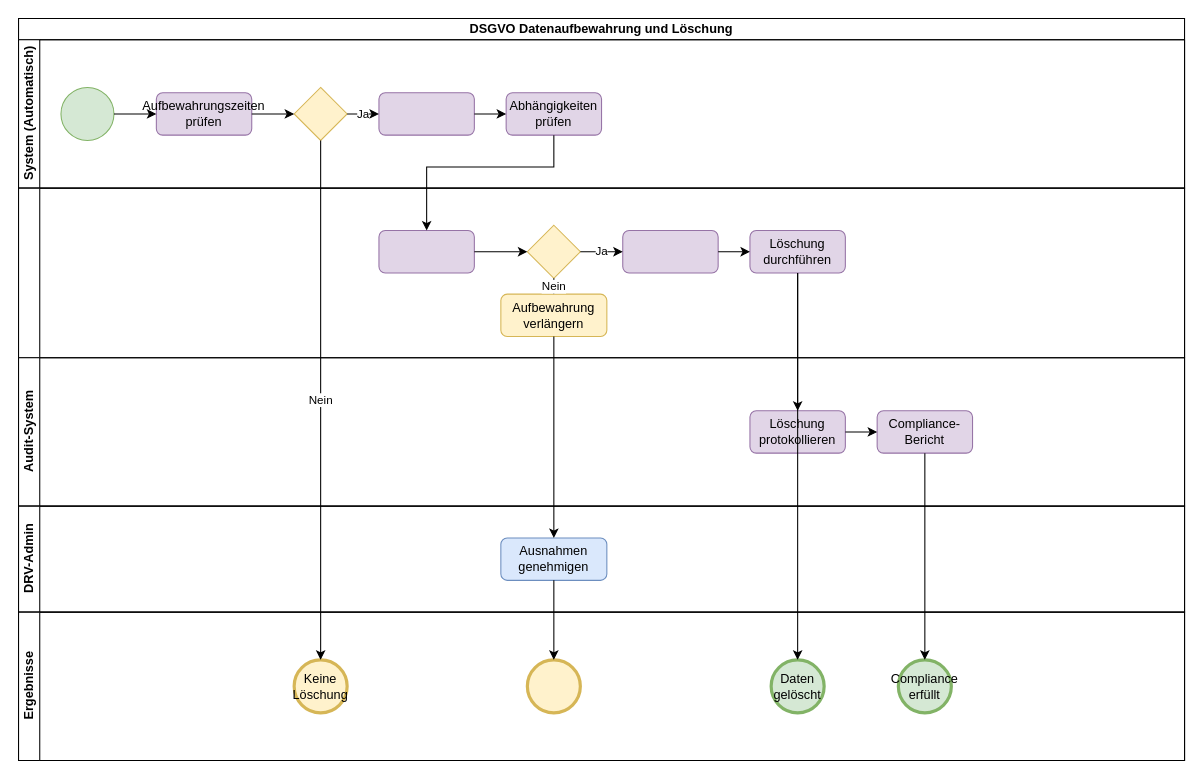
Some shapes in this 1203 by 779 pixel diagram are drawn without their labels. The shapes that lost their labels are listed below. From the top down, each one's box as (x1, y1, x2, y2) in pixels, then its label:
(60, 86, 114, 140): Tägliche Prüfung
(293, 86, 347, 140): Löschung fällig?
(378, 92, 474, 135): Löschkandidaten sammeln
(378, 229, 474, 273): Löschrichtlinien anwenden
(526, 224, 580, 278): Löschung möglich?
(622, 229, 718, 273): Daten anonymisieren
(17, 187, 1185, 358): DSGVO-Service
(525, 658, 581, 714): Aufbewahrung verlängert
